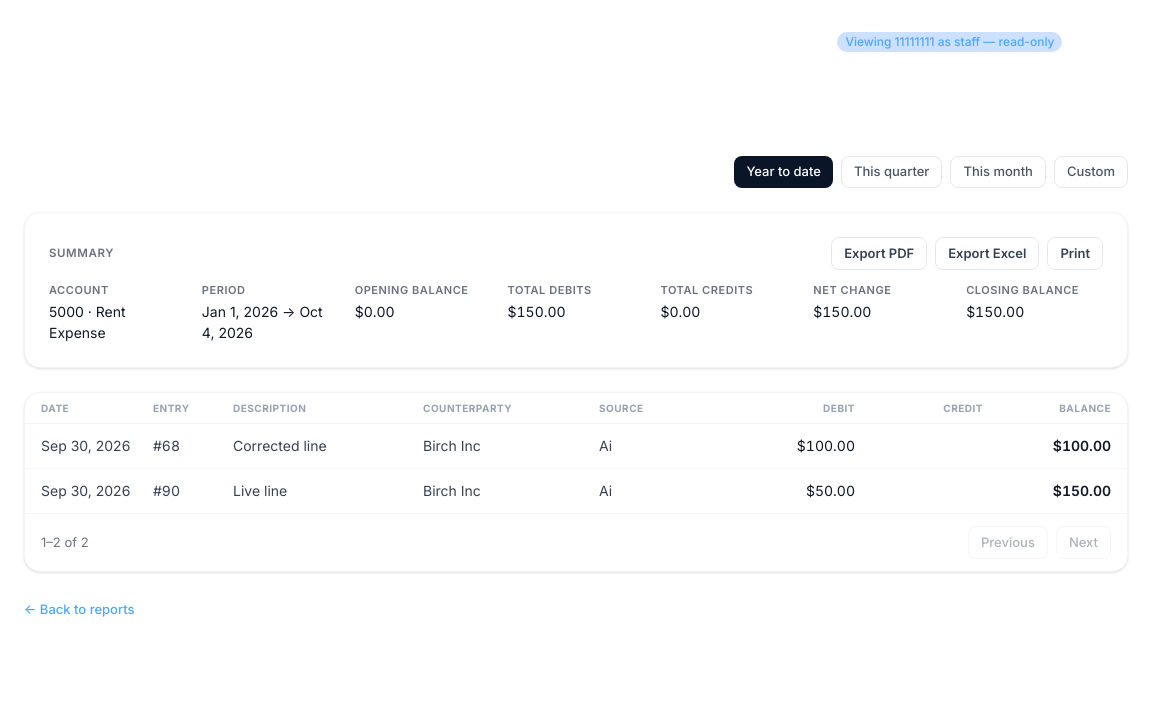
staff account ledger — writes on the live entry only (D-S85-13) › offers none on a corrected entry; it shows its link and its chain
What coordinates should you click on to do the following:
click the text "Corrected line"
I would click on:
 (312, 446)
Its box is [217,423,407,468].
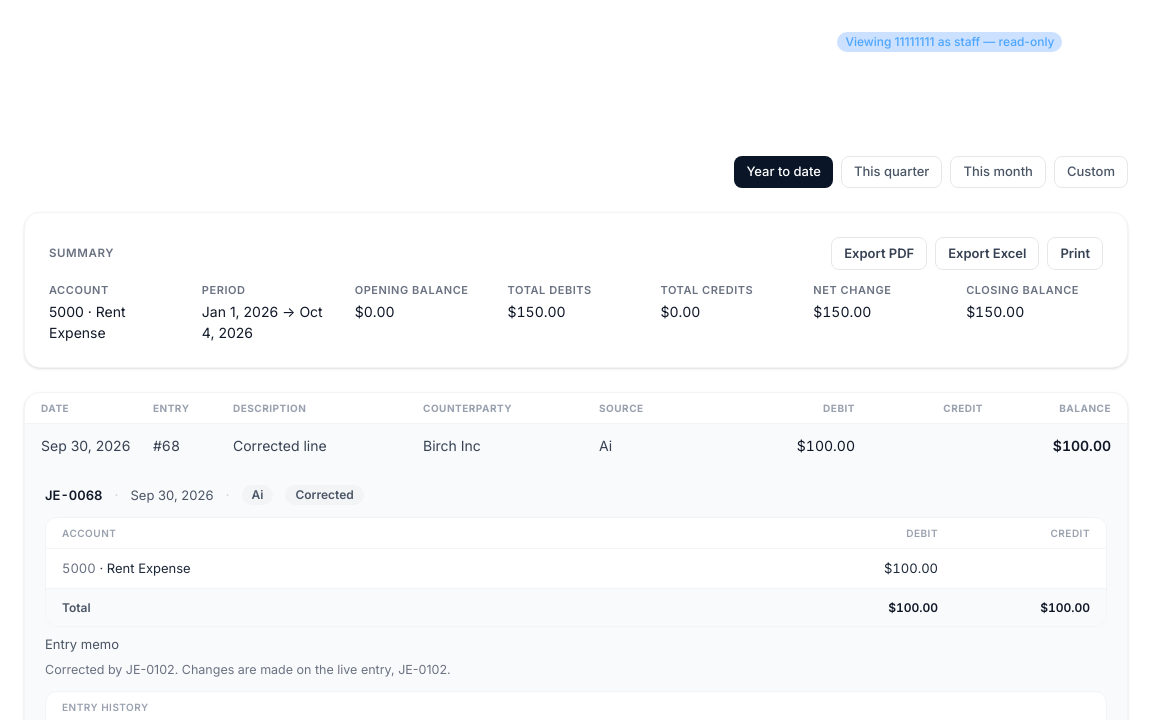
Expected: the text "Corrected by JE-0102. Changes are made on the live entry, JE-0102." is shown, [45,662,451,677]
